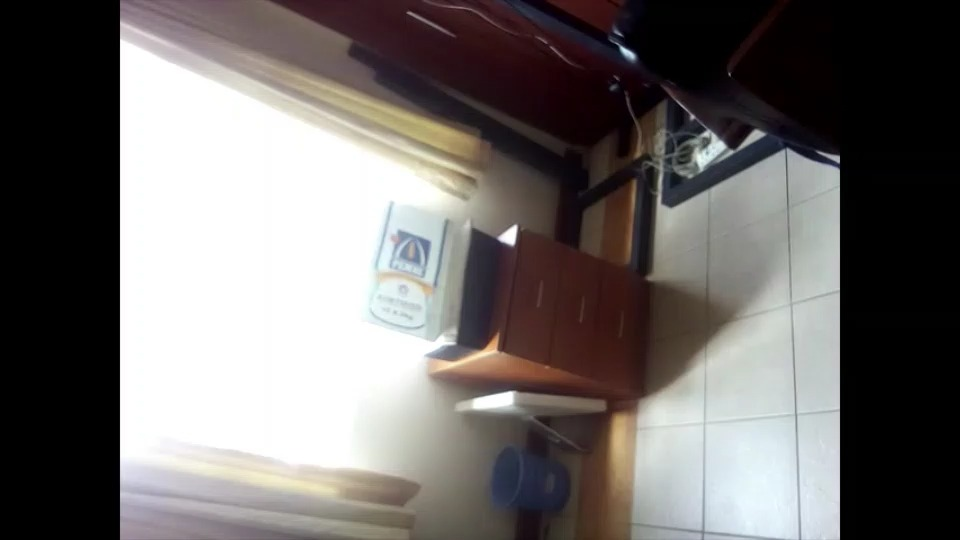wheat_flour_blue_label: (351, 199, 458, 334)
